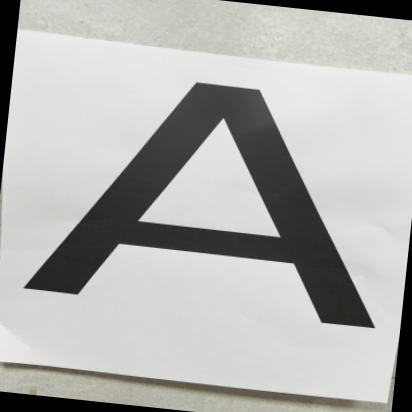seat: (0, 54, 393, 336)
